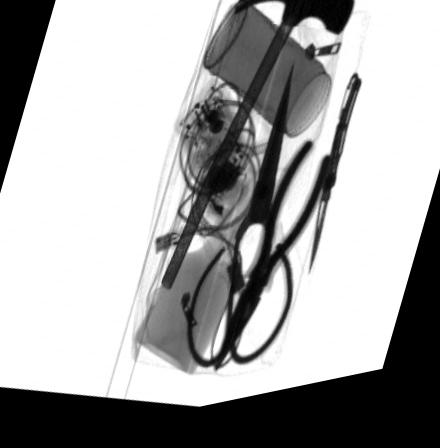Hammer: (159, 0, 356, 298)
Knife: (306, 88, 359, 284)
Pliers: (209, 151, 329, 384)
Scissors: (185, 73, 293, 377)
